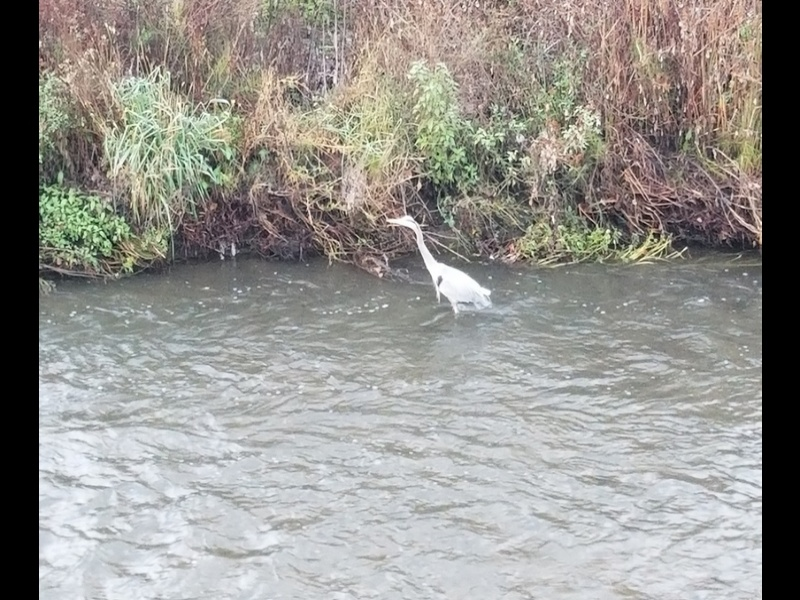heron: (384, 212, 493, 317)
